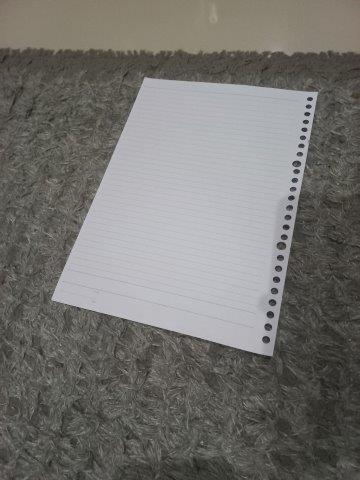kertas: (48, 77, 318, 357)
